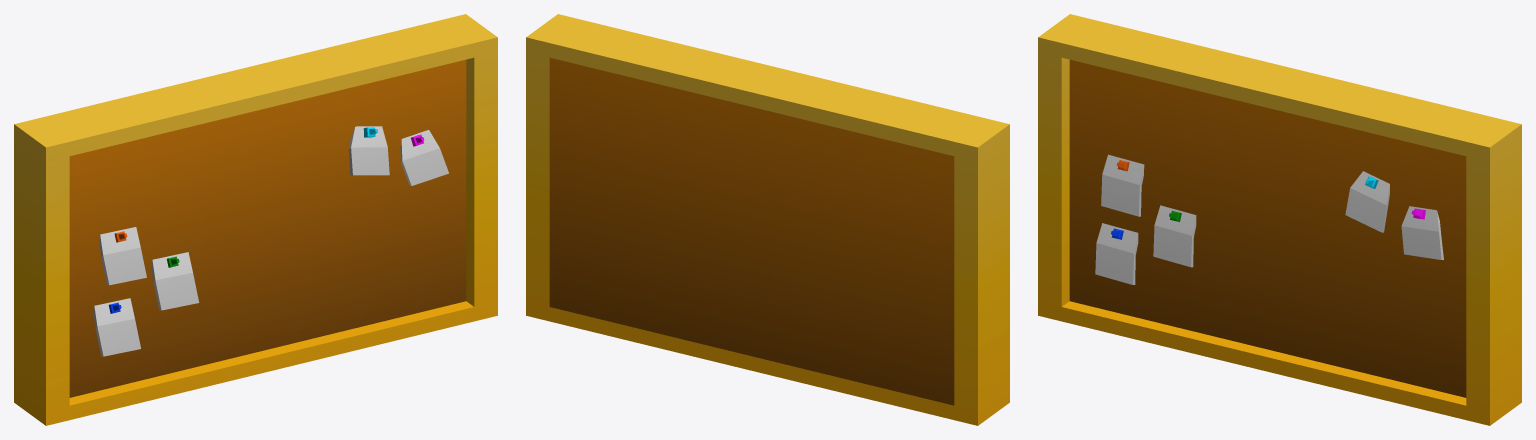
File: Tablero_1.fbx
3 renders of one model, left to right at view 1: azimuth 30°, elevation 25°; view 2: azimuth 150°, elevation 25°; view 3: azimuth 330°, elevation 25°, orthographic.
Parts seen in each view (by area): view 1: Tablero_1; view 2: Tablero_1; view 3: Tablero_1.
Boxes of the visible parts, left/top/right/bottom form: Tablero_1: left=14, top=14, right=497, bottom=425; Tablero_1: left=526, top=14, right=1009, bottom=425; Tablero_1: left=1038, top=14, right=1521, bottom=425.
Size of the model in its own units: 4.44 by 2.61 by 0.5625.
1 material, 1 textured.
